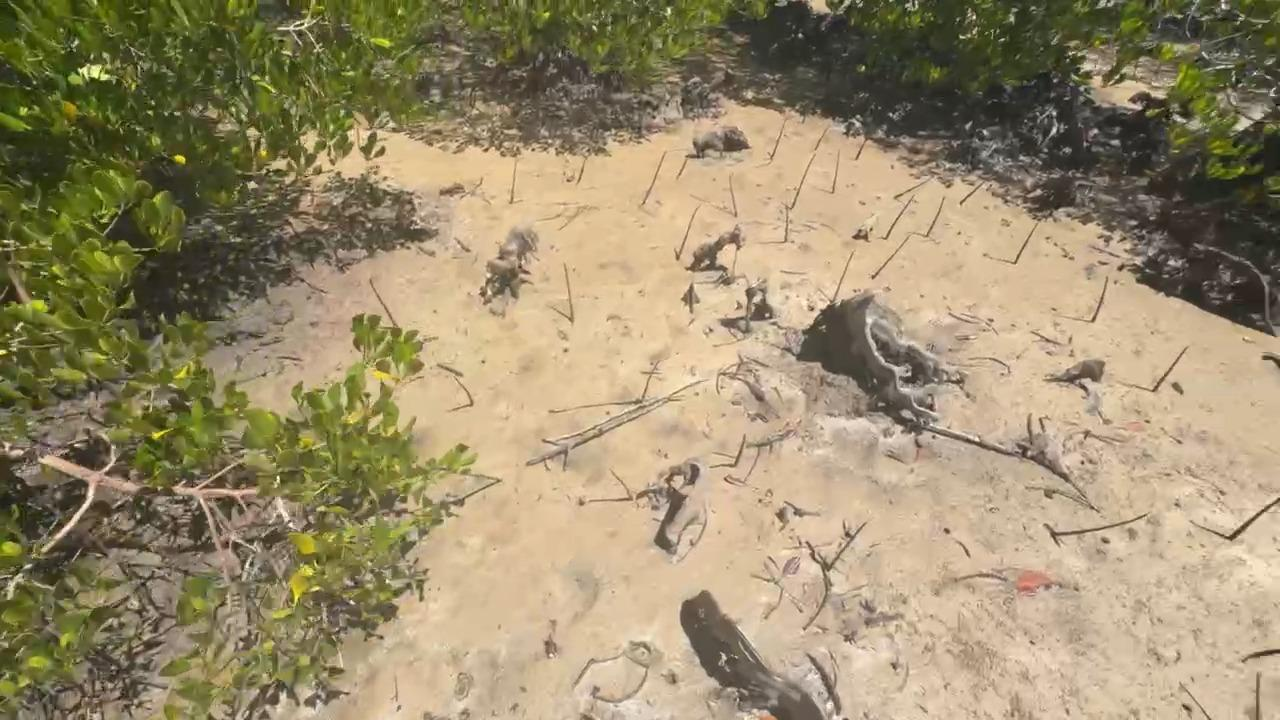Tree: (1228, 496, 1280, 539), (1051, 513, 1148, 536), (827, 522, 868, 573), (871, 236, 911, 280), (1152, 346, 1188, 392), (368, 278, 399, 328), (641, 151, 667, 205), (791, 153, 815, 210), (886, 196, 916, 240), (832, 253, 855, 302), (1013, 221, 1038, 266), (676, 208, 697, 259), (960, 174, 992, 204), (607, 467, 634, 502), (925, 196, 946, 236), (640, 360, 659, 402), (893, 177, 932, 197), (562, 262, 575, 320), (1091, 276, 1107, 323), (770, 118, 787, 159), (453, 376, 473, 406), (733, 434, 746, 469), (831, 150, 840, 194), (814, 125, 829, 151), (855, 134, 870, 159), (729, 176, 737, 218), (510, 161, 517, 205), (1255, 672, 1261, 720), (675, 158, 687, 179), (785, 204, 789, 242)
